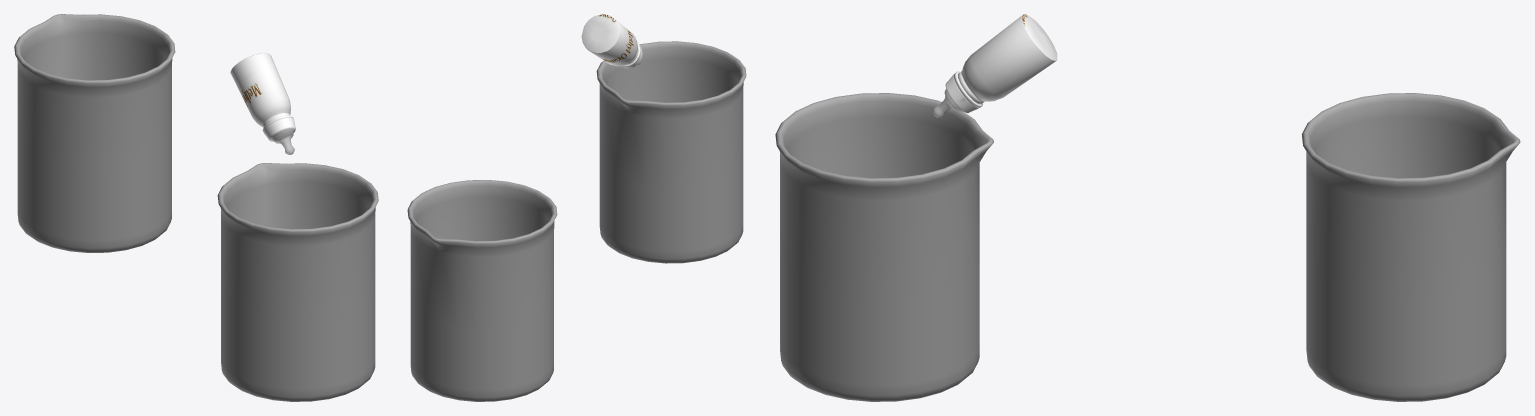
Rendered from mhytl_orange_experiment.fbx.
3 views of the same model, side by side, from view 1: azimuth 30°, elevation 25°; view 2: azimuth 150°, elevation 25°; view 3: azimuth 270°, elevation 25° (orthographic). The views are drawn at different scales.
Visible parts, largest first — view 1: polySurface8, polySurface6, mythl_orange; view 2: polySurface6, polySurface8, mythl_orange; view 3: polySurface6, polySurface8, mythl_orange.
Boxes of the visible parts, <box> form: polySurface8: <box>217,163,378,401</box>; polySurface6: <box>14,14,175,252</box>; mythl_orange: <box>230,53,295,154</box>; polySurface6: <box>407,180,557,401</box>; polySurface8: <box>596,41,746,263</box>; mythl_orange: <box>581,14,642,68</box>; polySurface6: <box>1302,93,1520,401</box>; polySurface8: <box>775,93,993,401</box>; mythl_orange: <box>932,14,1057,117</box>.
Bounding box in the file's own units: 20.44 × 38.39 × 73.06.
Materials: 4 (1 with a texture image).
